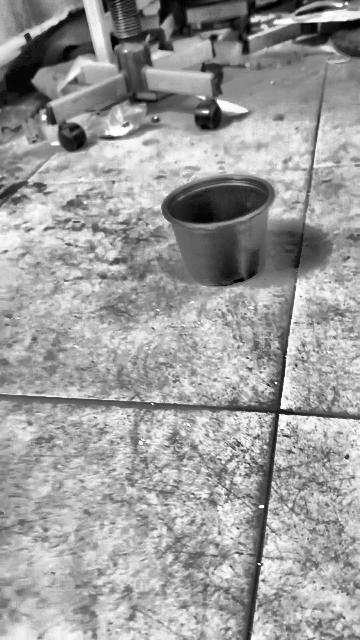pot: (163, 175, 275, 285)
